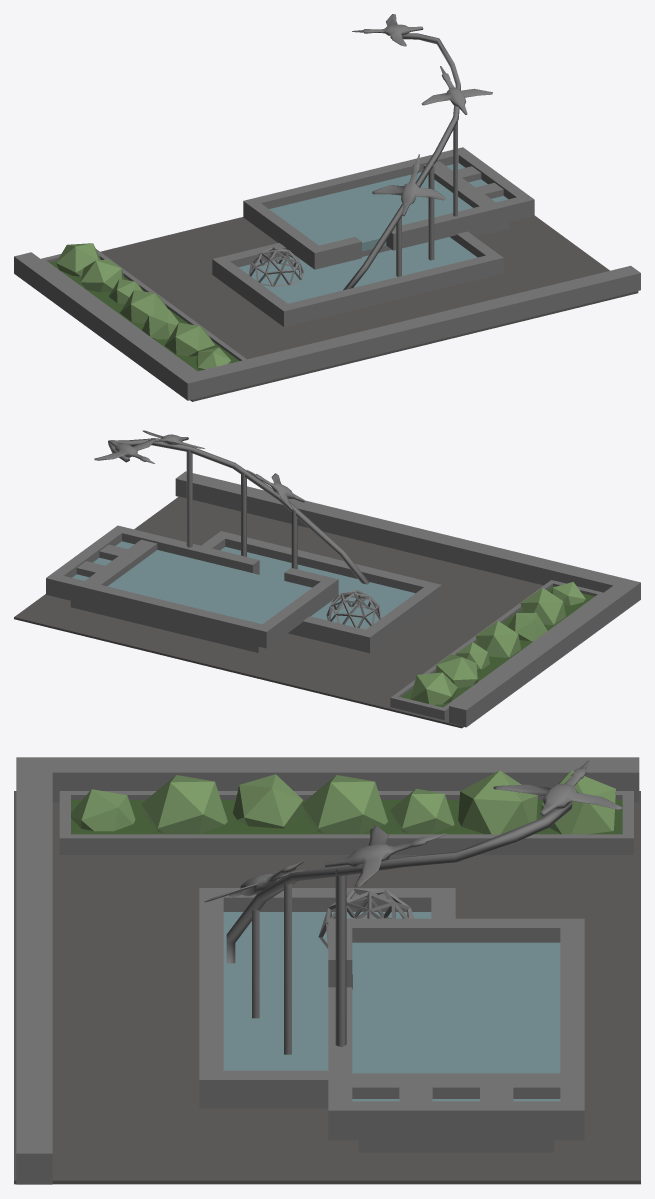
Rendered from waterbox.gltf.
3 renders of one model, top to bottom at view 1: azimuth 30°, elevation 25°; view 2: azimuth 150°, elevation 25°; view 3: azimuth 270°, elevation 25°, orthographic. The views are drawn at different scales.
Visible parts, largest first — view 1: Cube.002, Cube.001, Cube, Cube.003, Cube.004, Cube.005, Cube.006, Icosphere, Icosphere.003, Icosphere.006, Cube.010, Icosphere.002 (+7 smaller); view 2: Cube.002, Cube.001, Cube.003, Cube, Cube.004, Cube.005, Cube.006, Cube.010, Icosphere.008, Icosphere.002, Icosphere, Icosphere.003 (+8 smaller); view 3: Cube.002, Cube.001, Cube, Cube.004, Cube.005, Cube.003, Cube.010, Cube.006, Icosphere.003, Icosphere.002, Icosphere.006, Icosphere.001 (+10 smaller).
Boxes of the visible parts, <box> form: Cube.002: <box>100,215,638,401</box>; Cube.001: <box>243,147,534,269</box>; Cube: <box>212,231,503,326</box>; Cube.003: <box>177,265,640,400</box>; Cube.004: <box>14,252,201,392</box>; Cube.005: <box>41,249,246,371</box>; Cube.006: <box>343,33,460,290</box>; Icosphere: <box>248,247,303,286</box>; Icosphere.003: <box>165,322,215,356</box>; Icosphere.006: <box>80,259,124,292</box>; Cube.010: <box>423,161,495,207</box>; Icosphere.002: <box>120,290,168,323</box>; Cube.002: <box>14,496,543,728</box>; Cube.001: <box>46,525,338,652</box>; Cube.003: <box>175,471,640,606</box>; Cube: <box>201,531,441,653</box>; Cube.004: <box>449,585,630,727</box>; Cube.005: <box>390,580,602,720</box>; Cube.006: <box>108,438,369,584</box>; Cube.010: <box>85,539,157,586</box>; Icosphere.008: <box>410,672,457,704</box>; Icosphere.002: <box>475,620,520,657</box>; Icosphere: <box>326,590,381,628</box>; Icosphere.003: <box>520,588,565,624</box>; Cube.002: <box>14,791,640,1184</box>; Cube.001: <box>328,918,584,1152</box>; Cube: <box>199,888,455,1108</box>; Cube.004: <box>29,757,639,802</box>; Cube.005: <box>59,791,633,854</box>; Cube.003: <box>16,757,52,1184</box>; Cube.010: <box>352,1073,560,1098</box>; Cube.006: <box>226,801,572,963</box>; Icosphere.003: <box>141,775,227,834</box>; Icosphere.002: <box>302,775,387,834</box>; Icosphere.006: <box>458,770,537,834</box>; Icosphere.001: <box>233,774,303,828</box>.
Size of the model in its own units: 29.07 by 12.01 by 19.43.
